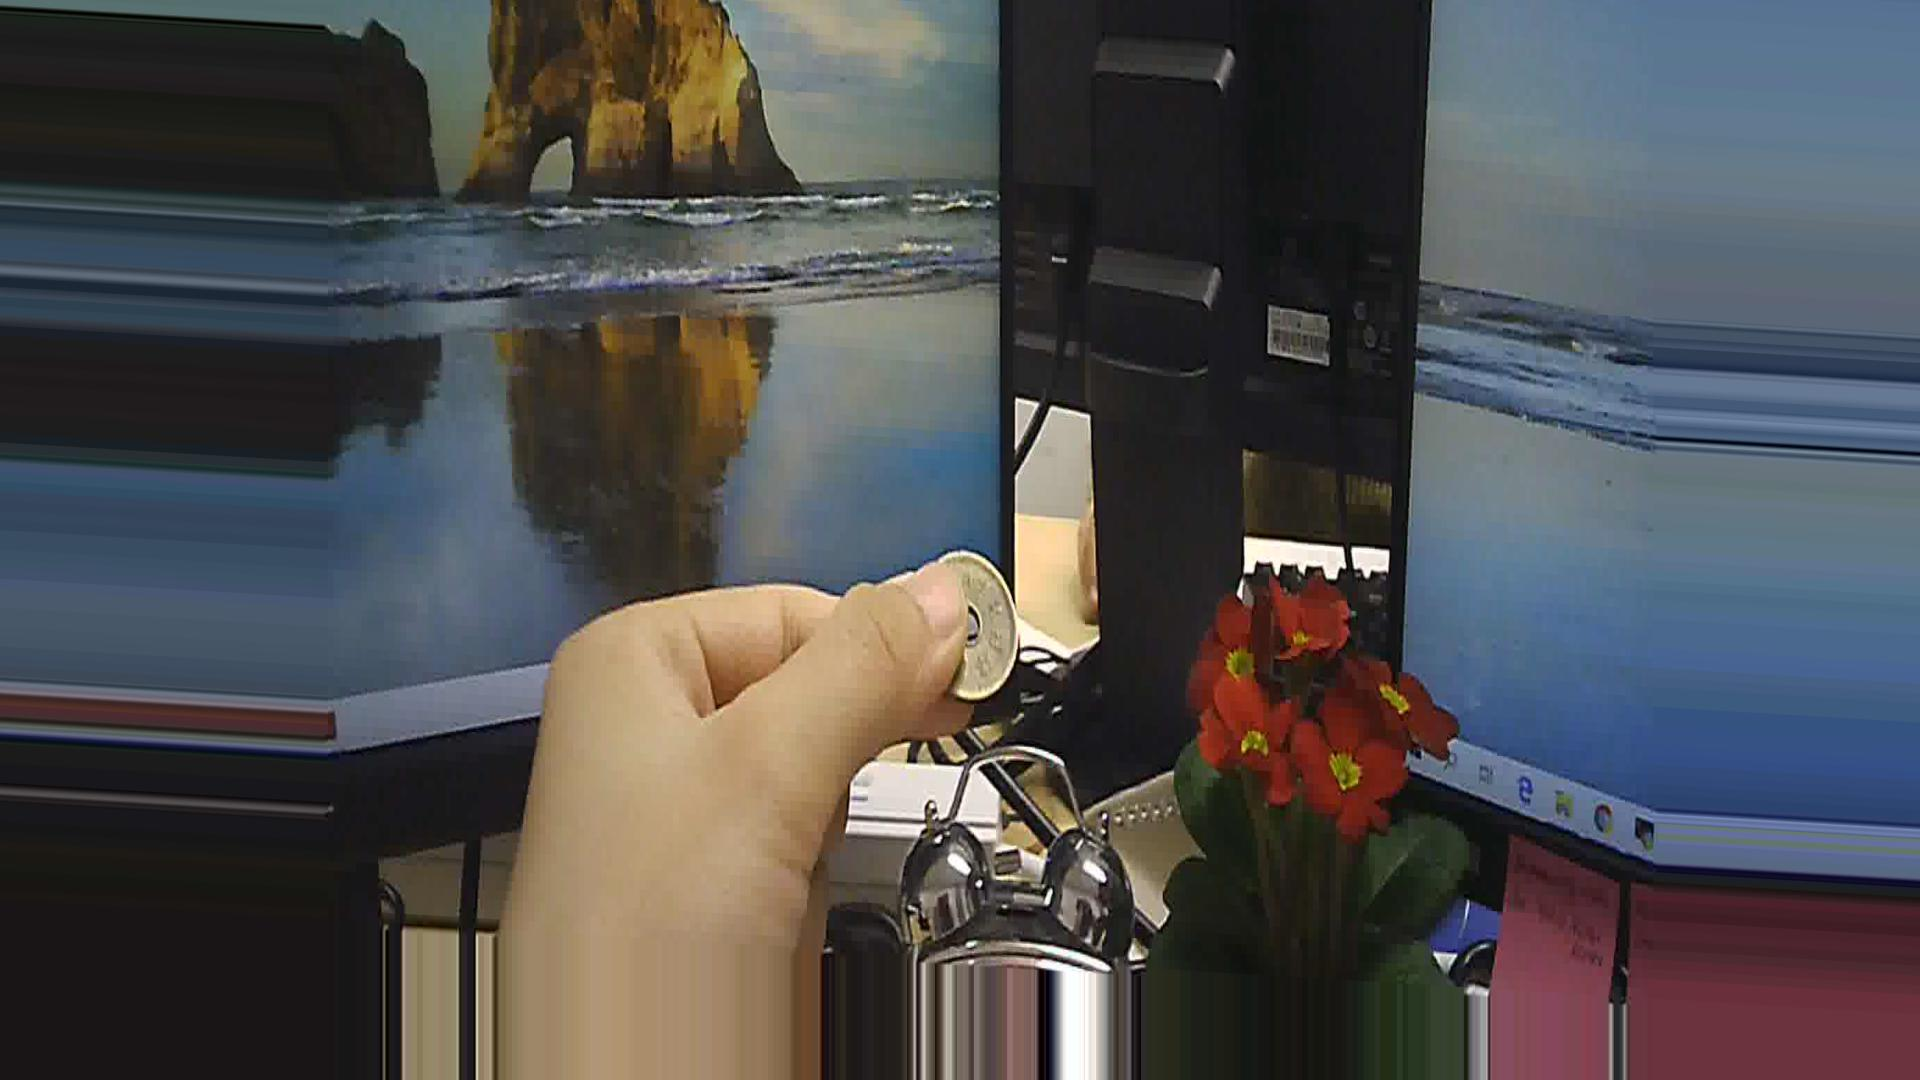5 Yen: (915, 542, 1036, 698)
